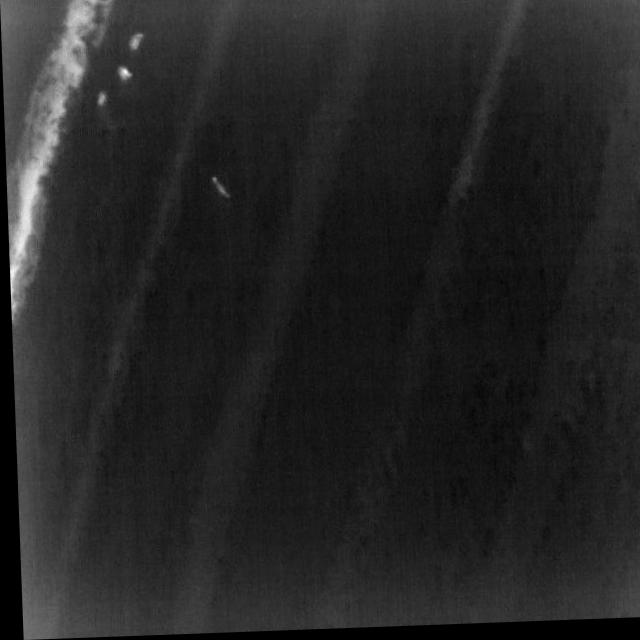deer: (209, 178, 228, 201), (114, 65, 133, 83), (128, 33, 144, 53), (95, 91, 107, 108)
